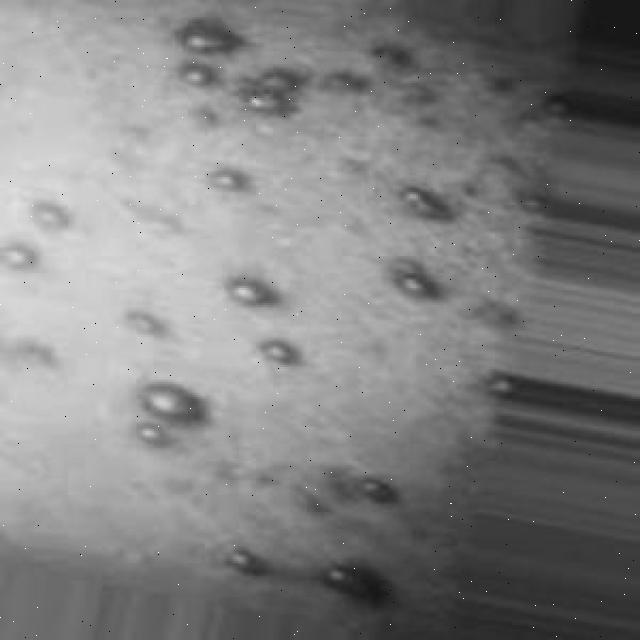Shingles: (118, 194, 190, 236), (138, 381, 204, 423), (326, 559, 389, 603), (173, 19, 244, 52), (244, 87, 298, 120), (228, 274, 280, 308), (390, 263, 439, 299), (7, 340, 56, 371), (402, 185, 448, 218), (206, 165, 252, 193), (1, 241, 41, 273), (226, 546, 267, 577), (324, 68, 371, 95), (30, 199, 70, 229), (259, 338, 299, 366), (126, 310, 167, 337), (179, 60, 219, 87), (398, 81, 438, 108), (359, 476, 396, 504), (262, 65, 302, 88), (542, 96, 572, 118), (486, 73, 514, 94), (488, 376, 514, 396), (519, 195, 547, 213), (138, 425, 163, 445), (197, 107, 220, 126)
